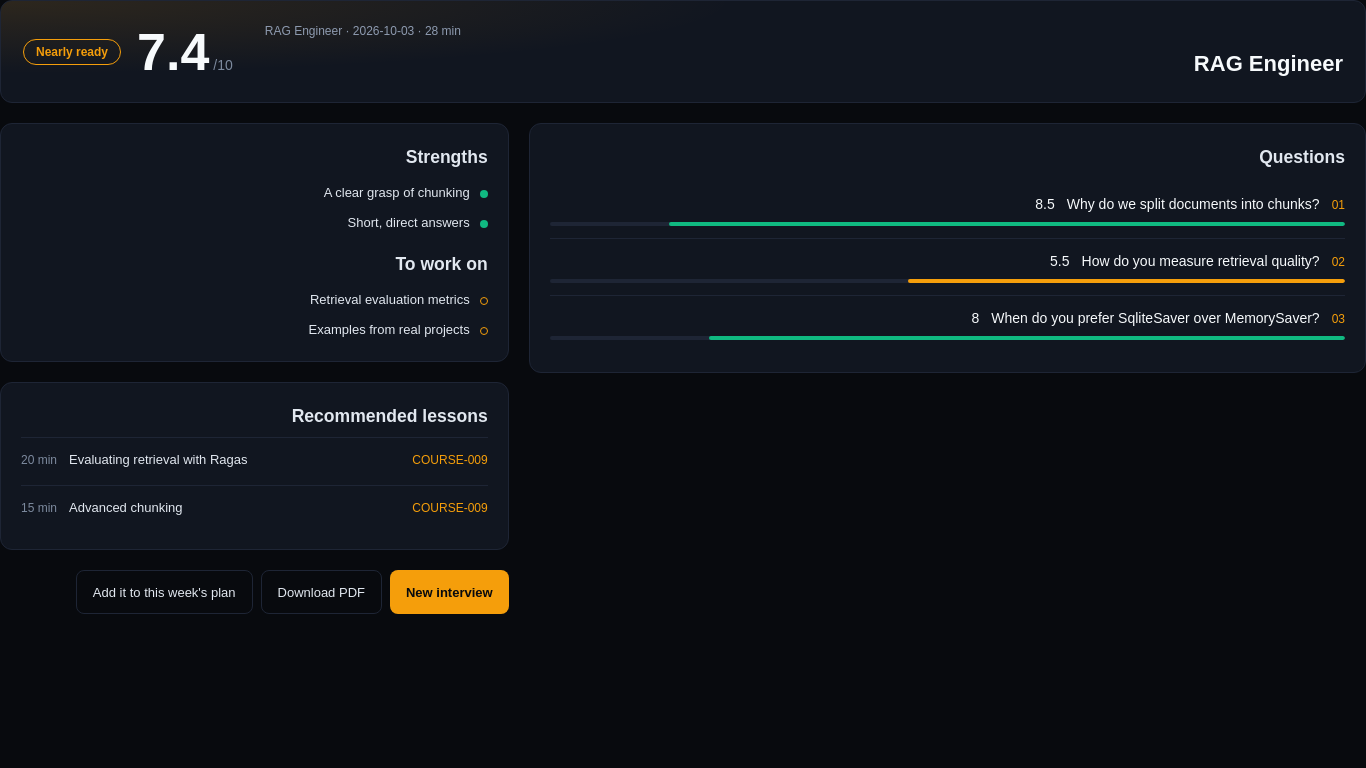
Test: InterviewReport › opens one question at a time, quoting what was said and the note
Click the button "02 How do you measure retrieval quality? 5.5" at {"x": 1201, "y": 261}, box left=550, top=239, right=1345, bottom=295
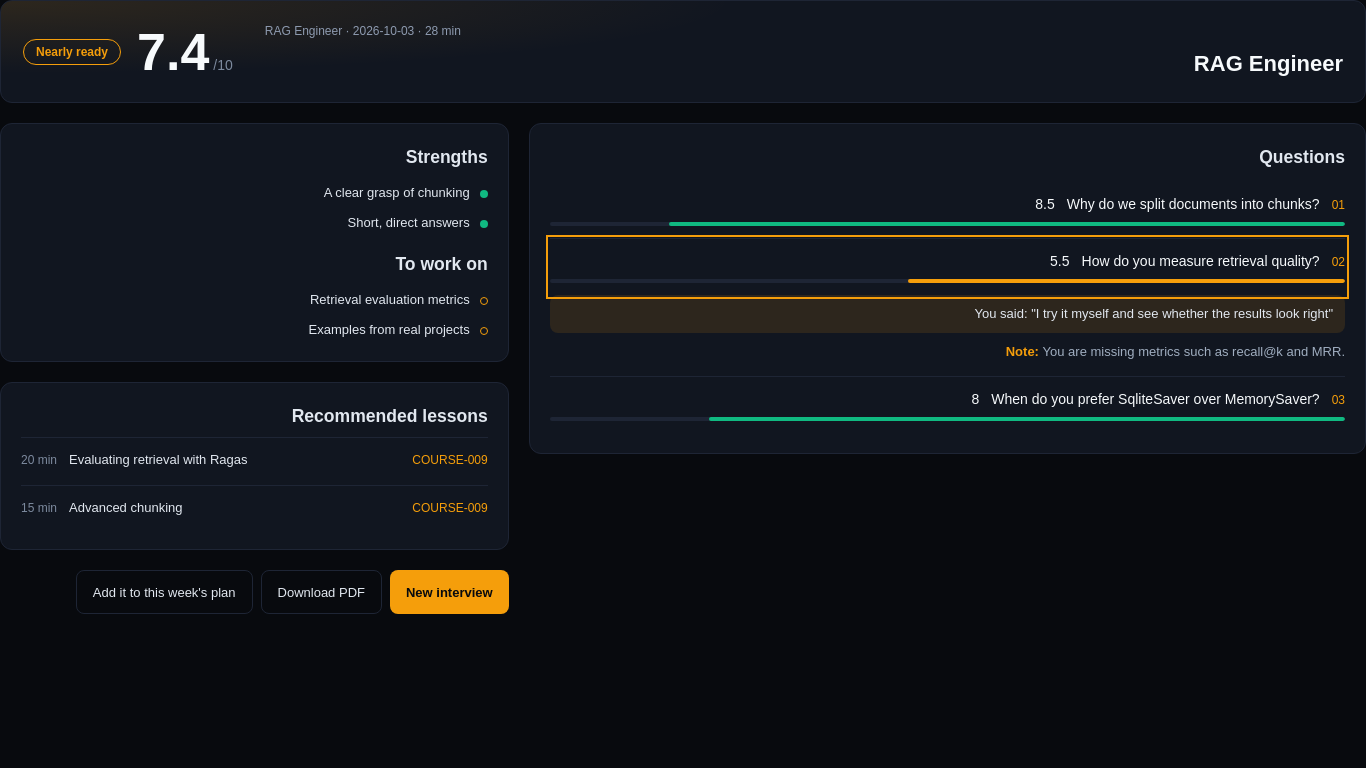
expect the text "You said: \"I try it myself" is shown: met, box left=974, top=306, right=1333, bottom=321
expect the text "Note: You are missing metrics such as recall@k and MRR." is shown: met, box left=1006, top=344, right=1345, bottom=359
Click the button "03 When do you prefer SqliteSaver over MemorySaver? 8" at {"x": 1155, "y": 399}, box left=550, top=376, right=1345, bottom=432
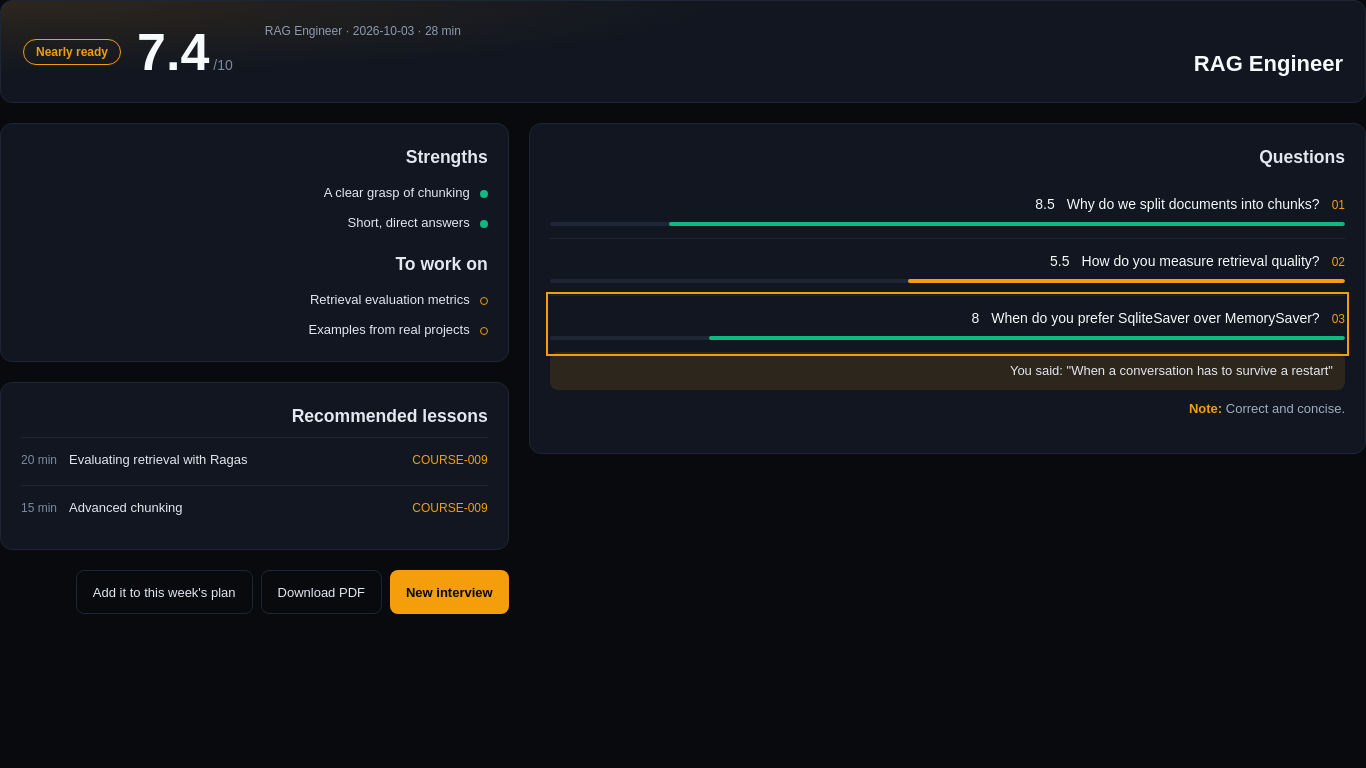
expect the text "I try it myself" is gone: met
expect the text "You said: \"When a conversation has to survive a restart\"" is shown: met, box left=550, top=352, right=1345, bottom=390
